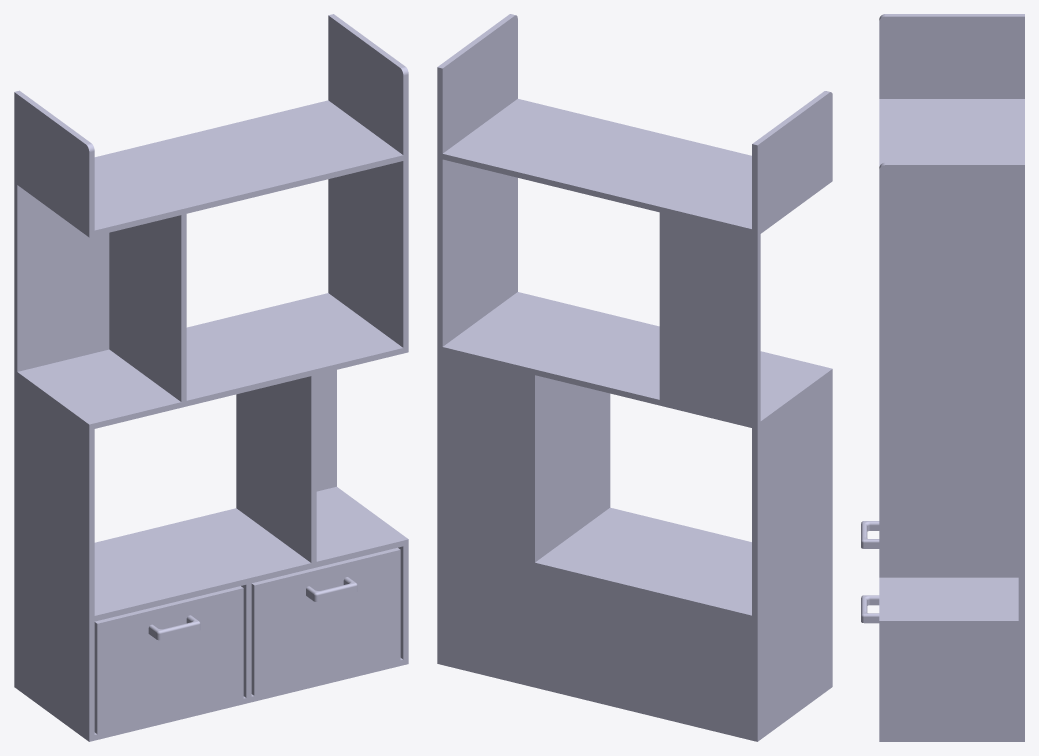
The model's file is shelf01.gltf.
The picture shows the model from 3 angles, left to right: view 1: azimuth 30°, elevation 25°; view 2: azimuth 150°, elevation 25°; view 3: azimuth 270°, elevation 25°; orthographic projection. The views are drawn at different scales.
Parts seen in each view (by area): view 1: Body, Body003, Body001, Body002, Body004; view 2: Body; view 3: Body, Body004, Body002.
Part boxes in pixels (x1,y1,x2,y2): Body: [14, 14, 408, 741]; Body003: [251, 547, 400, 695]; Body001: [94, 586, 243, 734]; Body002: [148, 615, 200, 640]; Body004: [306, 577, 357, 601]; Body: [437, 14, 832, 741]; Body: [879, 14, 1024, 741]; Body004: [861, 595, 879, 623]; Body002: [861, 521, 879, 548].
Size of the model in its own units: 0.59 by 1.05 by 0.27.
